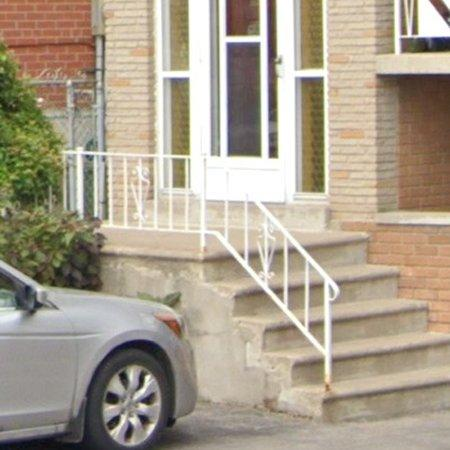stairs: (102, 206, 450, 423)
